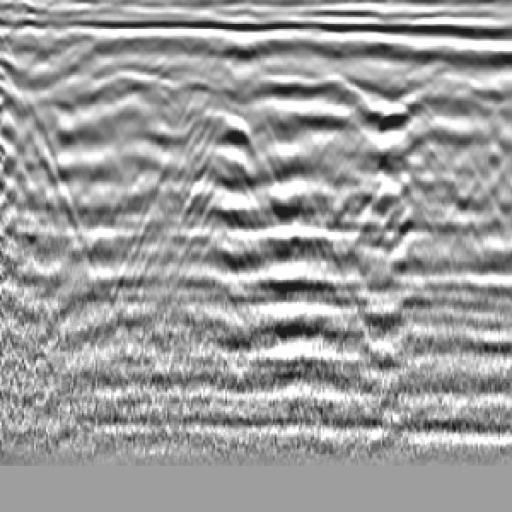metalic: (149, 71, 262, 170)
